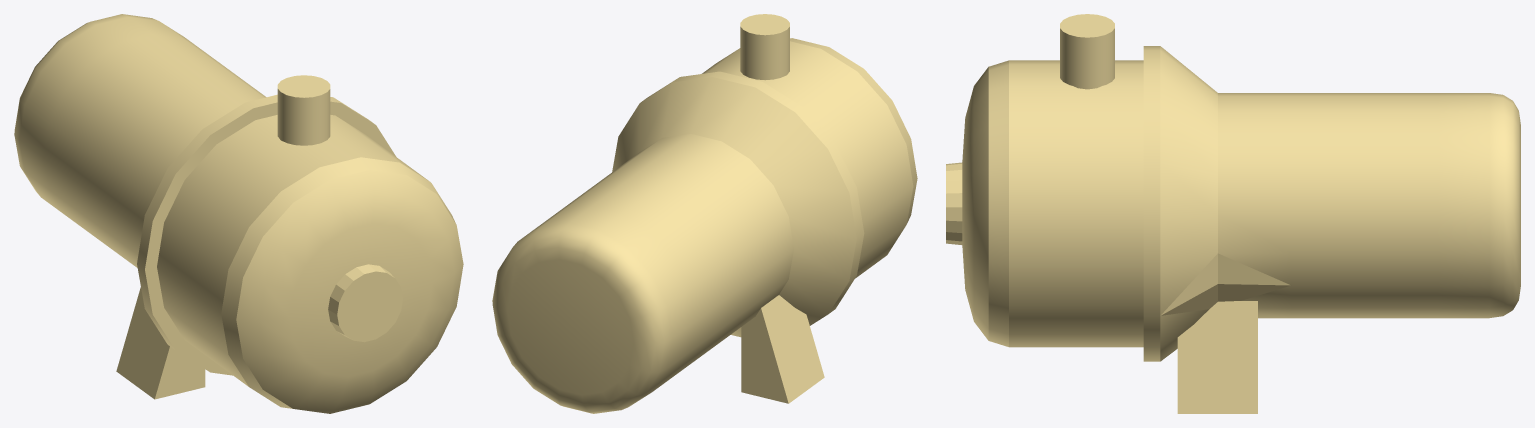
File: METROS.glb
3 views of the same model, side by side, from view 1: azimuth 30°, elevation 25°; view 2: azimuth 150°, elevation 25°; view 3: azimuth 270°, elevation 25° (orthographic). The views are drawn at different scales.
Visible parts, largest first — view 1: Cylinder001; view 2: Cylinder001; view 3: Cylinder001.
Part boxes in pixels (left/top/right/bottom): Cylinder001: left=14, top=14, right=463, bottom=413; Cylinder001: left=492, top=14, right=917, bottom=413; Cylinder001: left=946, top=14, right=1520, bottom=413.
Size of the model in its own units: 196 by 228 by 355.
